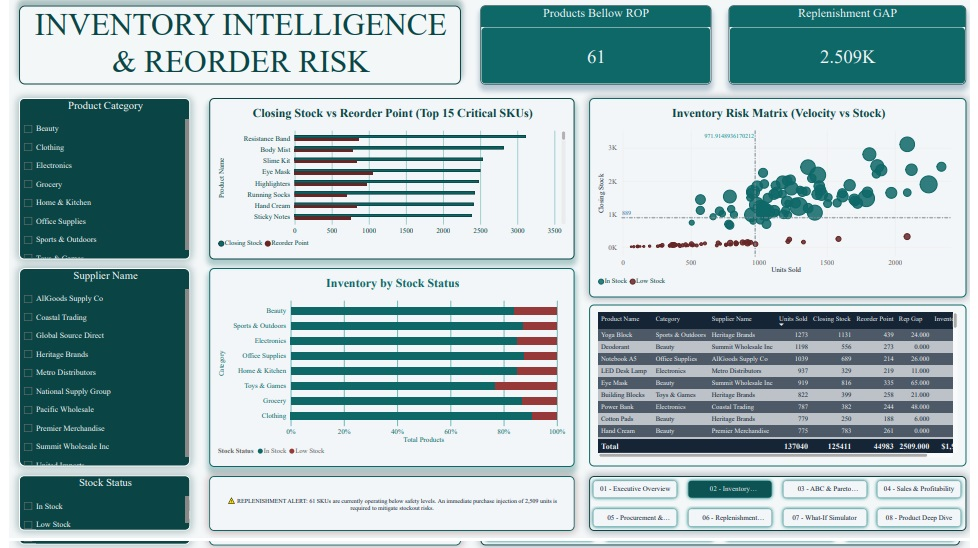

Layout of this report page (visuals, bound fields, positions):
{"tool":"powerbi","page":{"name":"02 - Inventory Intelligence","canvas":[1920,1080],"ordinal":1},"visuals":[{"type":"cardVisual","title":"Products Bellow ROP","fields":{"Data":["_Measure.Products Below ROP"]},"box":[941.7,15,461.7,158.3],"z":0},{"type":"cardVisual","title":"Replenishment GAP","fields":{"Data":["_Measure.Replenishment Gap"]},"box":[1438,15,474,158],"z":1000},{"type":"textbox","title":"INVENTORY INTELLIGENCE & REORDER RISK","box":[20,15,882.5,157.5],"z":2000},{"type":"slicer","title":"Product Category","fields":{"Values":["DimCategory.Category"]},"box":[20,200,341.7,323.3],"z":3000},{"type":"slicer","title":"Supplier Name","fields":{"Values":["DimSupplier.Supplier Name"]},"box":[20,540,342,397],"z":4000},{"type":"slicer","title":"Stock Status","fields":{"Values":["FactInventory.Stock Status"]},"box":[20,955,342,110],"z":5000},{"type":"hundredPercentStackedBarChart","title":"Inventory by Stock Status","fields":{"Category":["DimCategory.Category"],"Series":["FactInventory.Stock Status"],"Y":["_Measure.Total Products"]},"box":[400,540,730,398],"z":6000},{"type":"clusteredBarChart","title":"Closing Stock vs Reorder Point (Top 15 Critical SKUs)","fields":{"Category":["DimProduct.Product Name"],"Y":["Sum(FactInventory.Closing Stock)","Sum(FactInventory.Reorder Point)"]},"box":[400,200,730,322.9],"z":7000},{"type":"cardVisual","fields":{"Data":["_Measure.Operational Insight Text"]},"box":[400,956,730,110],"z":8000},{"type":"scatterChart","title":"Inventory Risk Matrix (Velocity vs Stock)","fields":{"Category":["DimProduct.Product Name"],"Series":["FactInventory.Stock Status"],"Size":["_Measure.Inventory Value"],"X":["Sum(FactInventory.Units Sold)"],"Y":["Sum(FactInventory.Closing Stock)"]},"box":[1158.6,200,754.3,398.6],"z":9000},{"type":"tableEx","title":"Critical Inventory Watchlist","fields":{"Values":["DimProduct.Product Name","DimCategory.Category","DimSupplier.Supplier Name","Sum(FactInventory.Units Sold)","Sum(FactInventory.Closing Stock)","Sum(FactInventory.Reorder Point)","_Measure.Replenishment Gap","_Measure.Inventory Value"]},"box":[1158.6,612.9,754.3,324.3],"z":10000},{"type":"pageNavigator","box":[1159,956,754,110],"z":11000}]}

Visuals, with their boxes in screenshot pixels (x1, y1, x2, y2), scaled from the page's 1920x1080 canvas onto the 978x548 screenshot:
"Products Bellow ROP" cardVisual: 480/8/715/88
"Replenishment GAP" cardVisual: 732/8/974/88
"INVENTORY INTELLIGENCE & REORDER RISK" textbox: 10/8/460/88
"Product Category" slicer: 10/101/184/266
"Supplier Name" slicer: 10/274/184/475
"Stock Status" slicer: 10/485/184/540
"Inventory by Stock Status" hundredPercentStackedBarChart: 204/274/576/476
"Closing Stock vs Reorder Point (Top 15 Critical SKUs)" clusteredBarChart: 204/101/576/265
cardVisual - _Measure.Operational Insight Text: 204/485/576/541
"Inventory Risk Matrix (Velocity vs Stock)" scatterChart: 590/101/974/304
"Critical Inventory Watchlist" tableEx: 590/311/974/476
pageNavigator: 590/485/974/541
